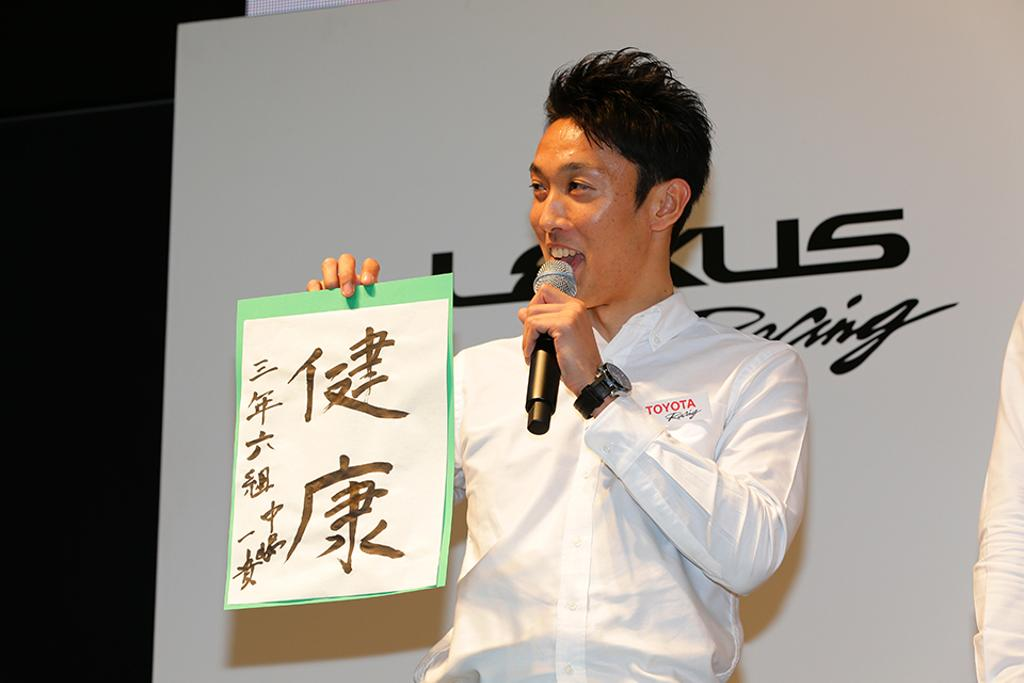face: (526, 106, 648, 312)
